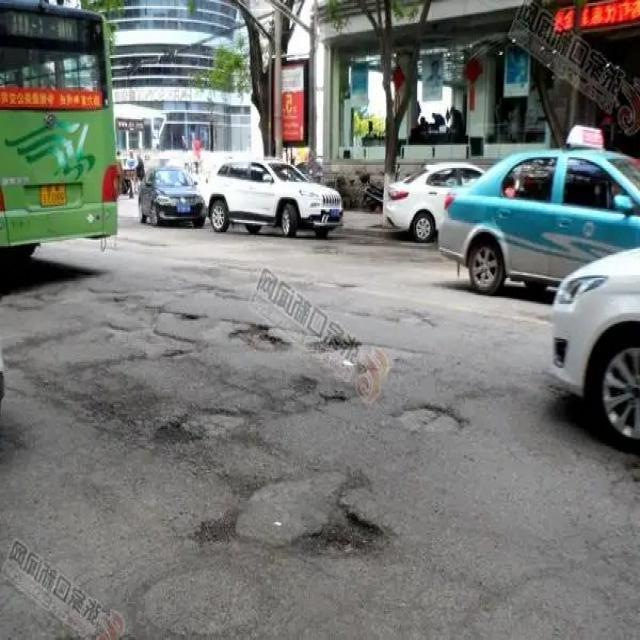pothole: (194, 466, 394, 561), (150, 399, 248, 452), (395, 402, 468, 440), (228, 326, 289, 349), (305, 336, 360, 361), (160, 344, 197, 360), (320, 390, 352, 407), (162, 312, 211, 323)
